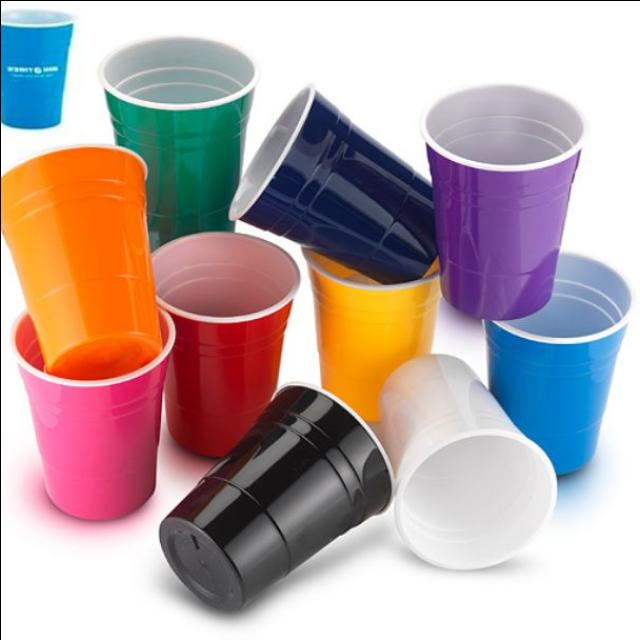plastik: (159, 384, 391, 609), (229, 84, 436, 282), (377, 353, 555, 567), (422, 84, 583, 318), (0, 146, 161, 378), (10, 309, 174, 519), (98, 36, 257, 246), (152, 231, 298, 455), (483, 253, 631, 473), (304, 248, 440, 420), (0, 9, 73, 127)
